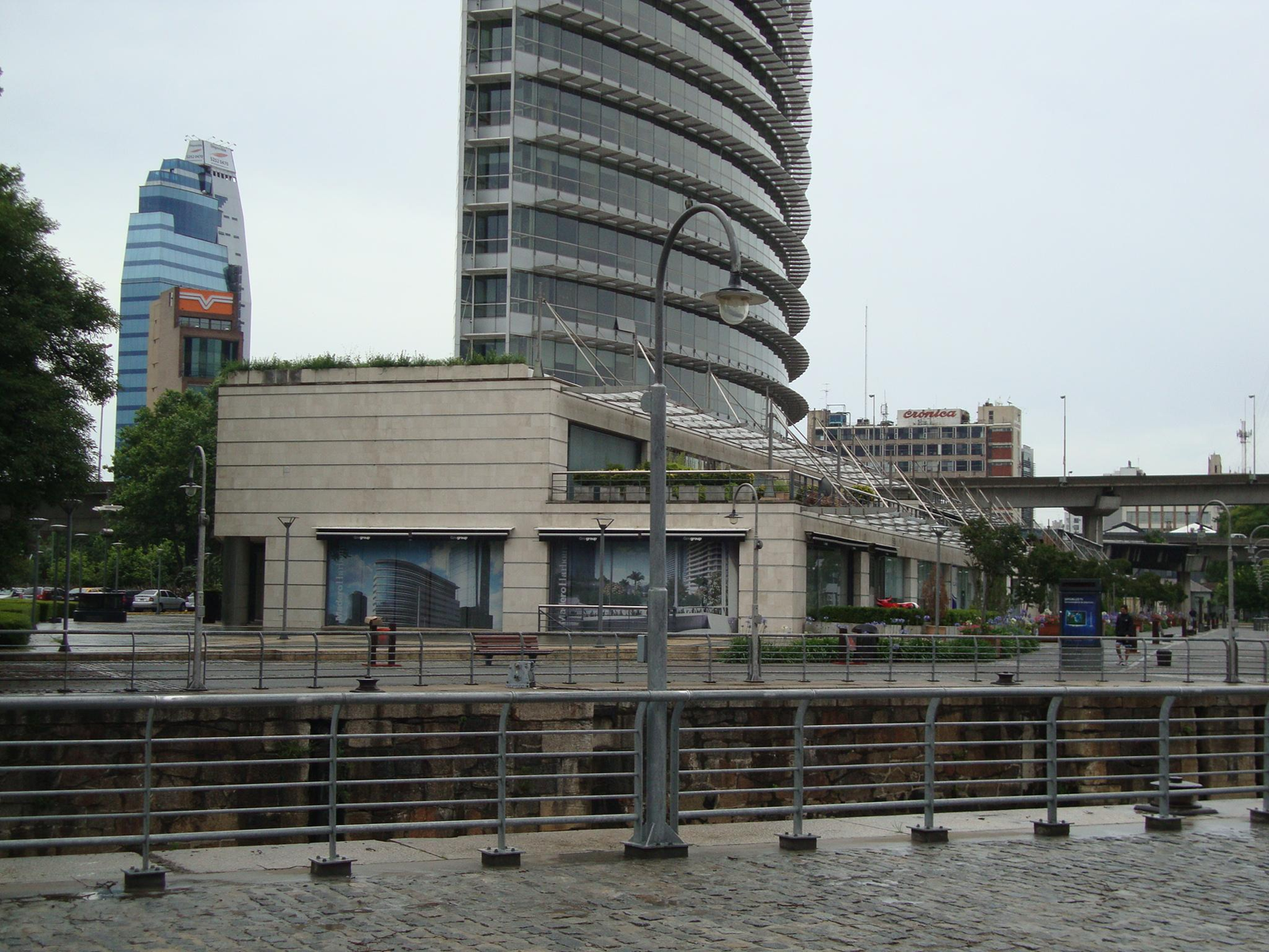fachada: (188, 333, 1108, 653), (455, 0, 838, 442), (111, 138, 267, 481)
poste: (634, 204, 761, 854), (45, 479, 116, 693), (185, 423, 241, 648), (1203, 497, 1256, 695)
